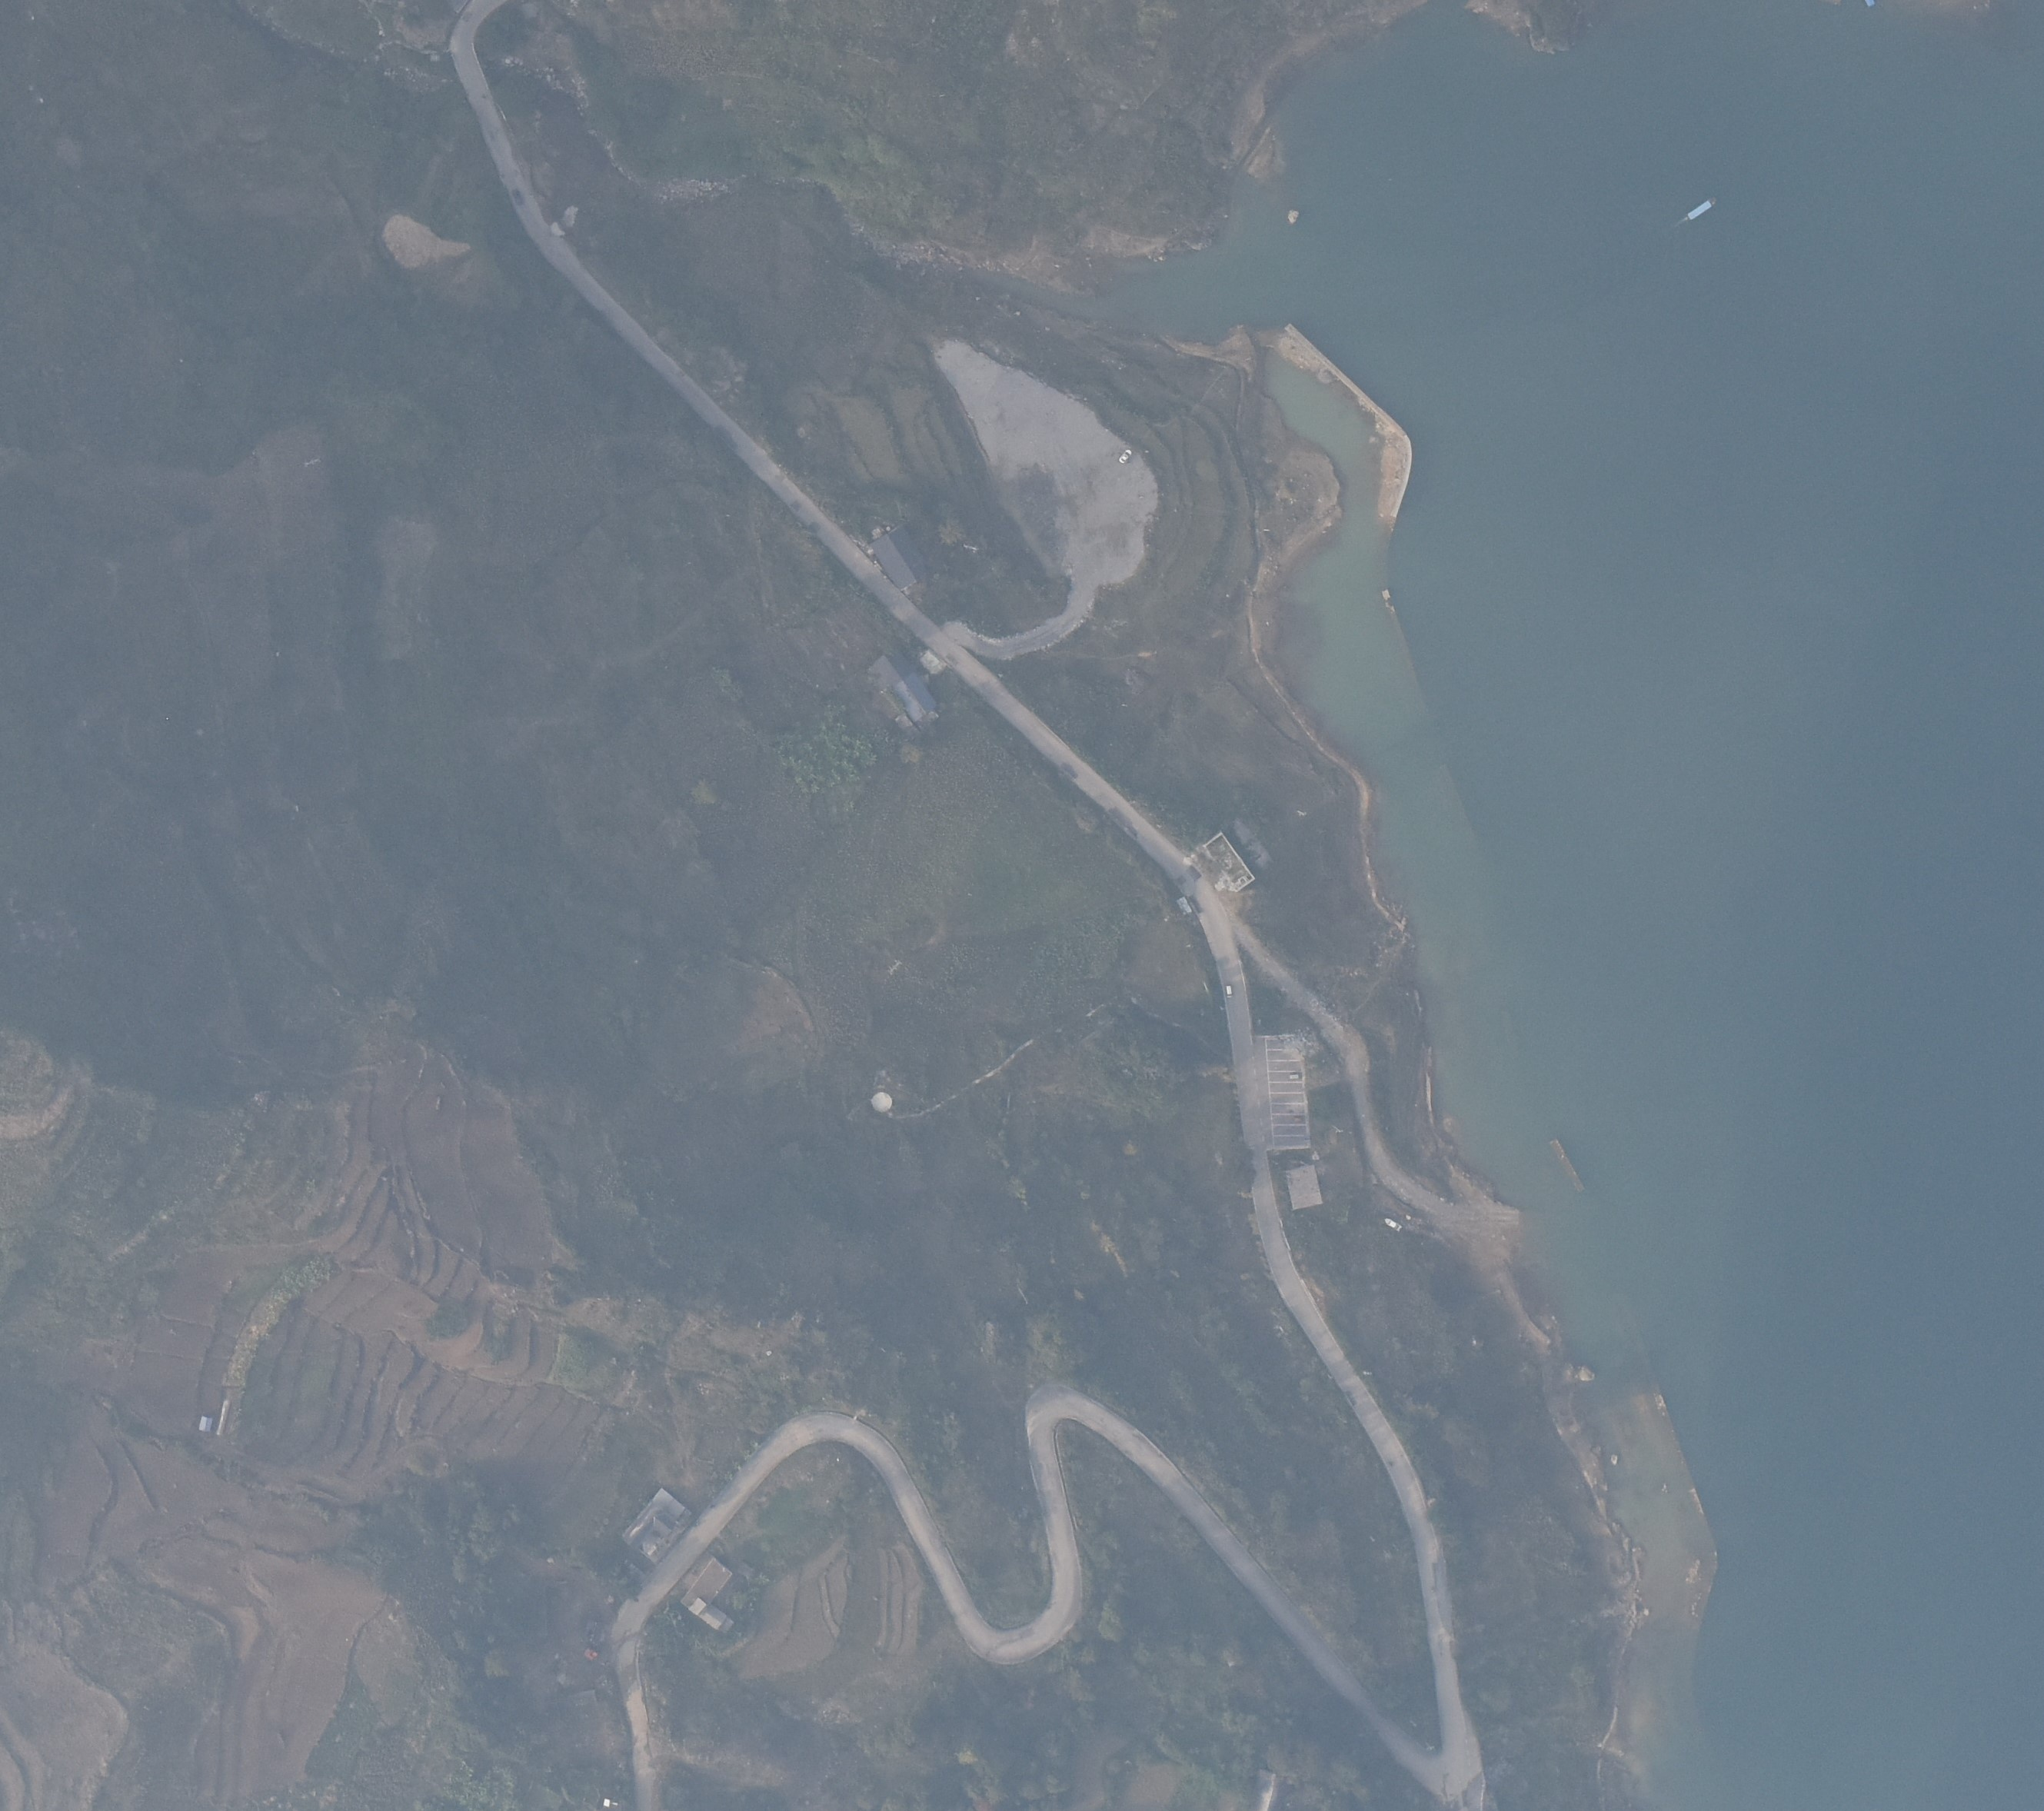building: (618, 1487, 696, 1570), (854, 524, 936, 594), (1197, 831, 1256, 895), (676, 1556, 734, 1619), (885, 672, 940, 724), (1283, 1163, 1324, 1216), (863, 645, 911, 690), (697, 1605, 741, 1638), (193, 1413, 215, 1436)
ship: (1677, 193, 1717, 221), (1383, 1217, 1404, 1234)
vehicle: (509, 185, 529, 211), (1116, 445, 1136, 464), (1286, 1070, 1301, 1082), (1224, 983, 1233, 1000)
well: (869, 1090, 897, 1117)
